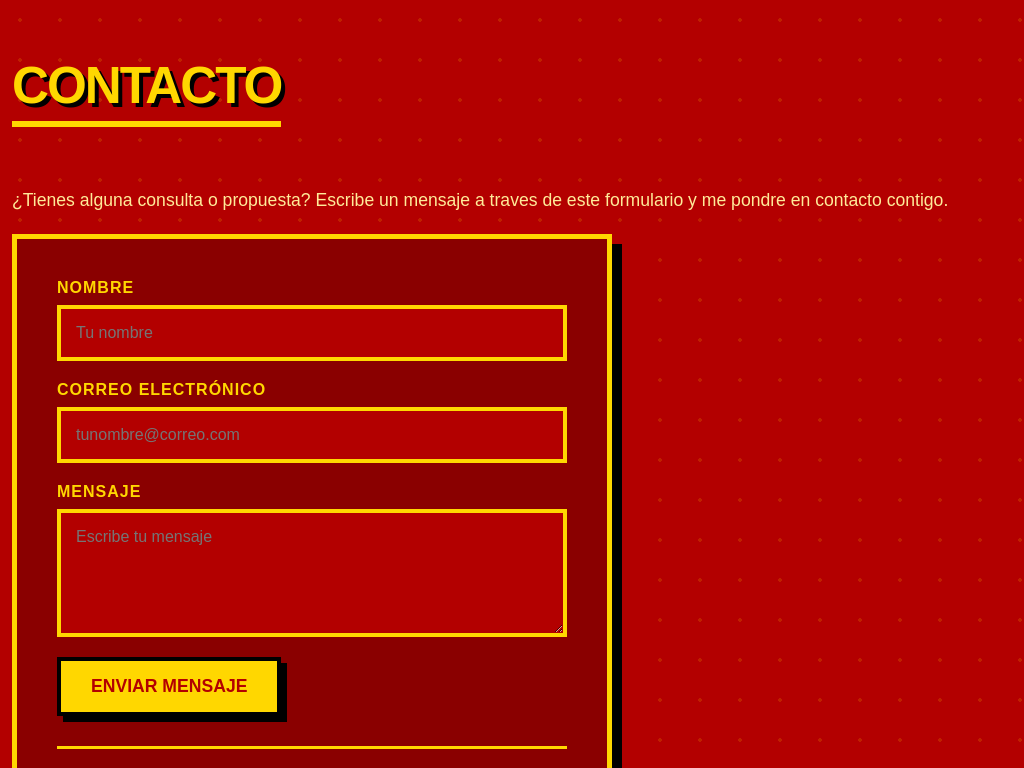
Test: Componente Contacto › debe mostrar un error si se envía sin ingresar el nombre
Click the button "Enviar mensaje": (169, 686) [57,657,281,716]
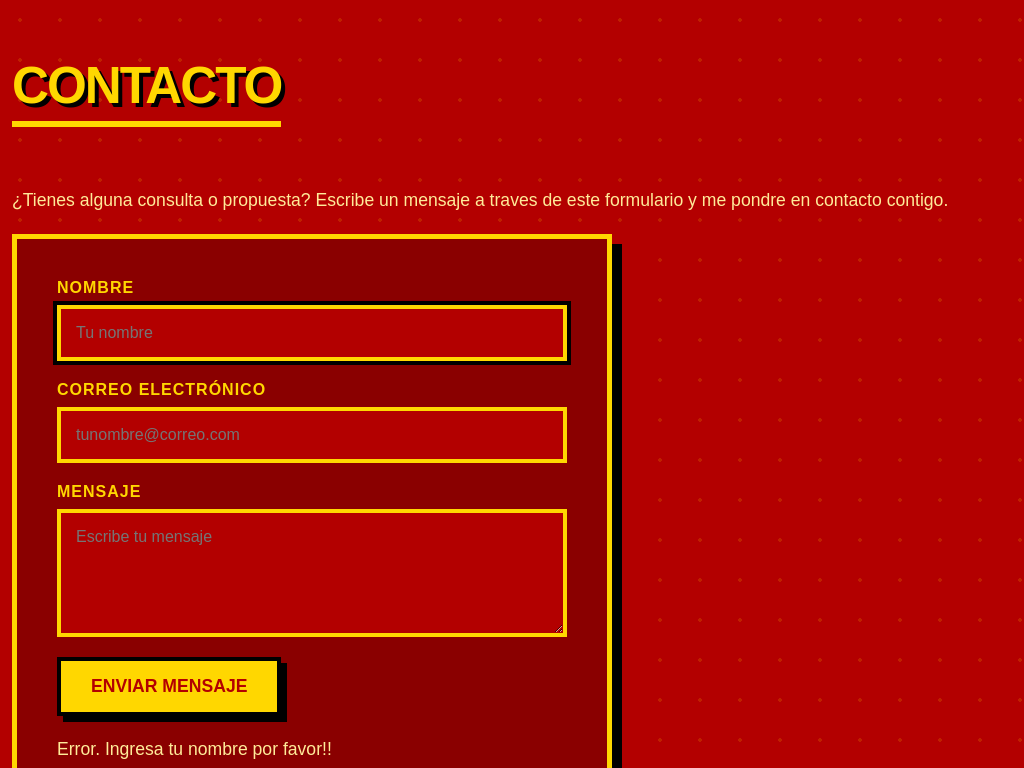
Expected: the message reads "Error. Ingresa tu nombre por favor!!", [57,739,332,759]
